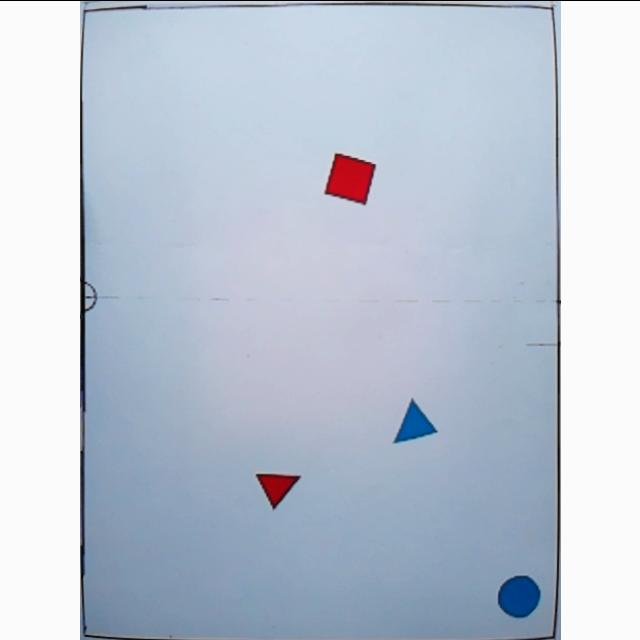blueCircle: (496, 573, 540, 619)
blueTriangle: (390, 396, 440, 446)
redSquare: (322, 152, 376, 204)
redTriangle: (254, 462, 298, 510)
